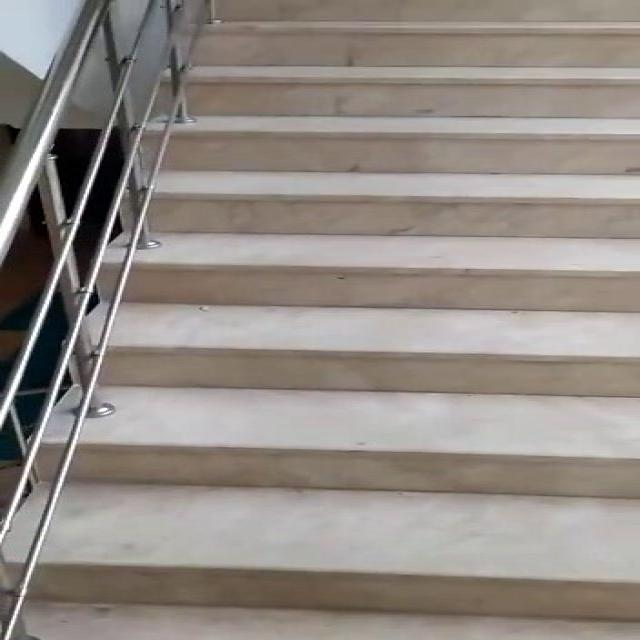stair: (72, 4, 640, 640)
